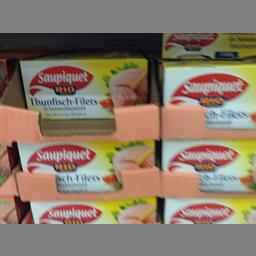fish: (18, 54, 146, 118), (12, 140, 156, 190), (159, 58, 255, 128), (160, 140, 255, 190)
